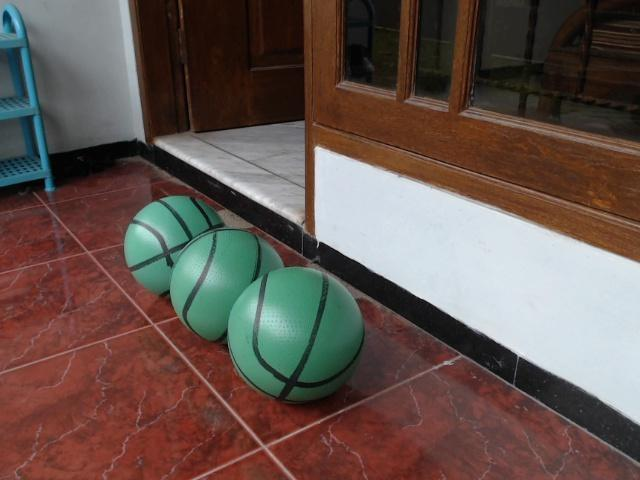Sports-Ball: (234, 274, 369, 409), (178, 233, 286, 350), (126, 191, 223, 309)
